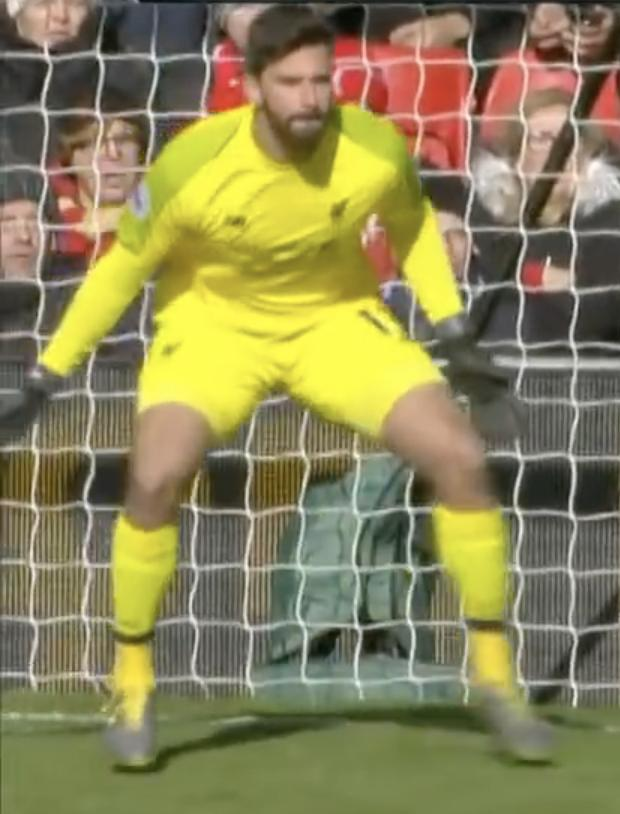goalkeeper: (0, 9, 572, 792)
